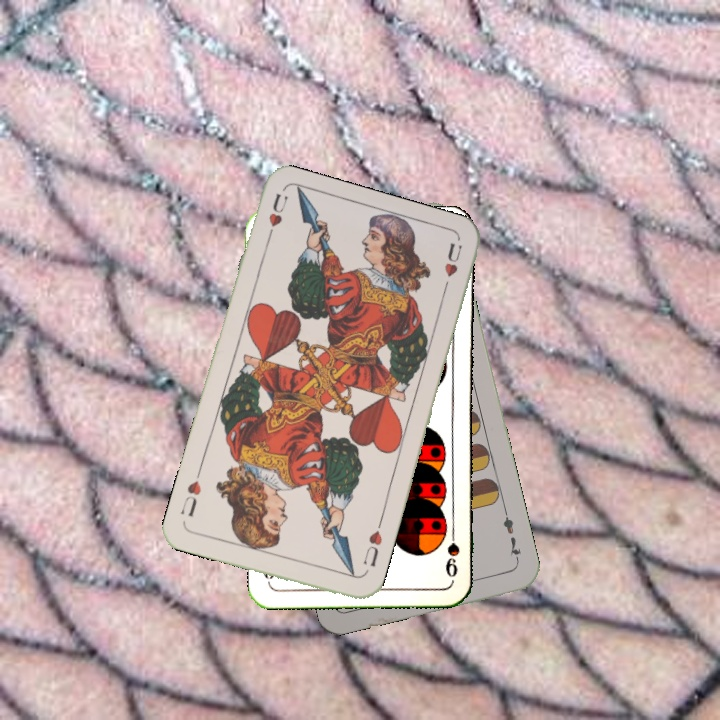E7: (498, 507, 524, 565)
HU: (262, 189, 291, 247), (359, 519, 385, 570)
S9: (441, 522, 462, 580)
